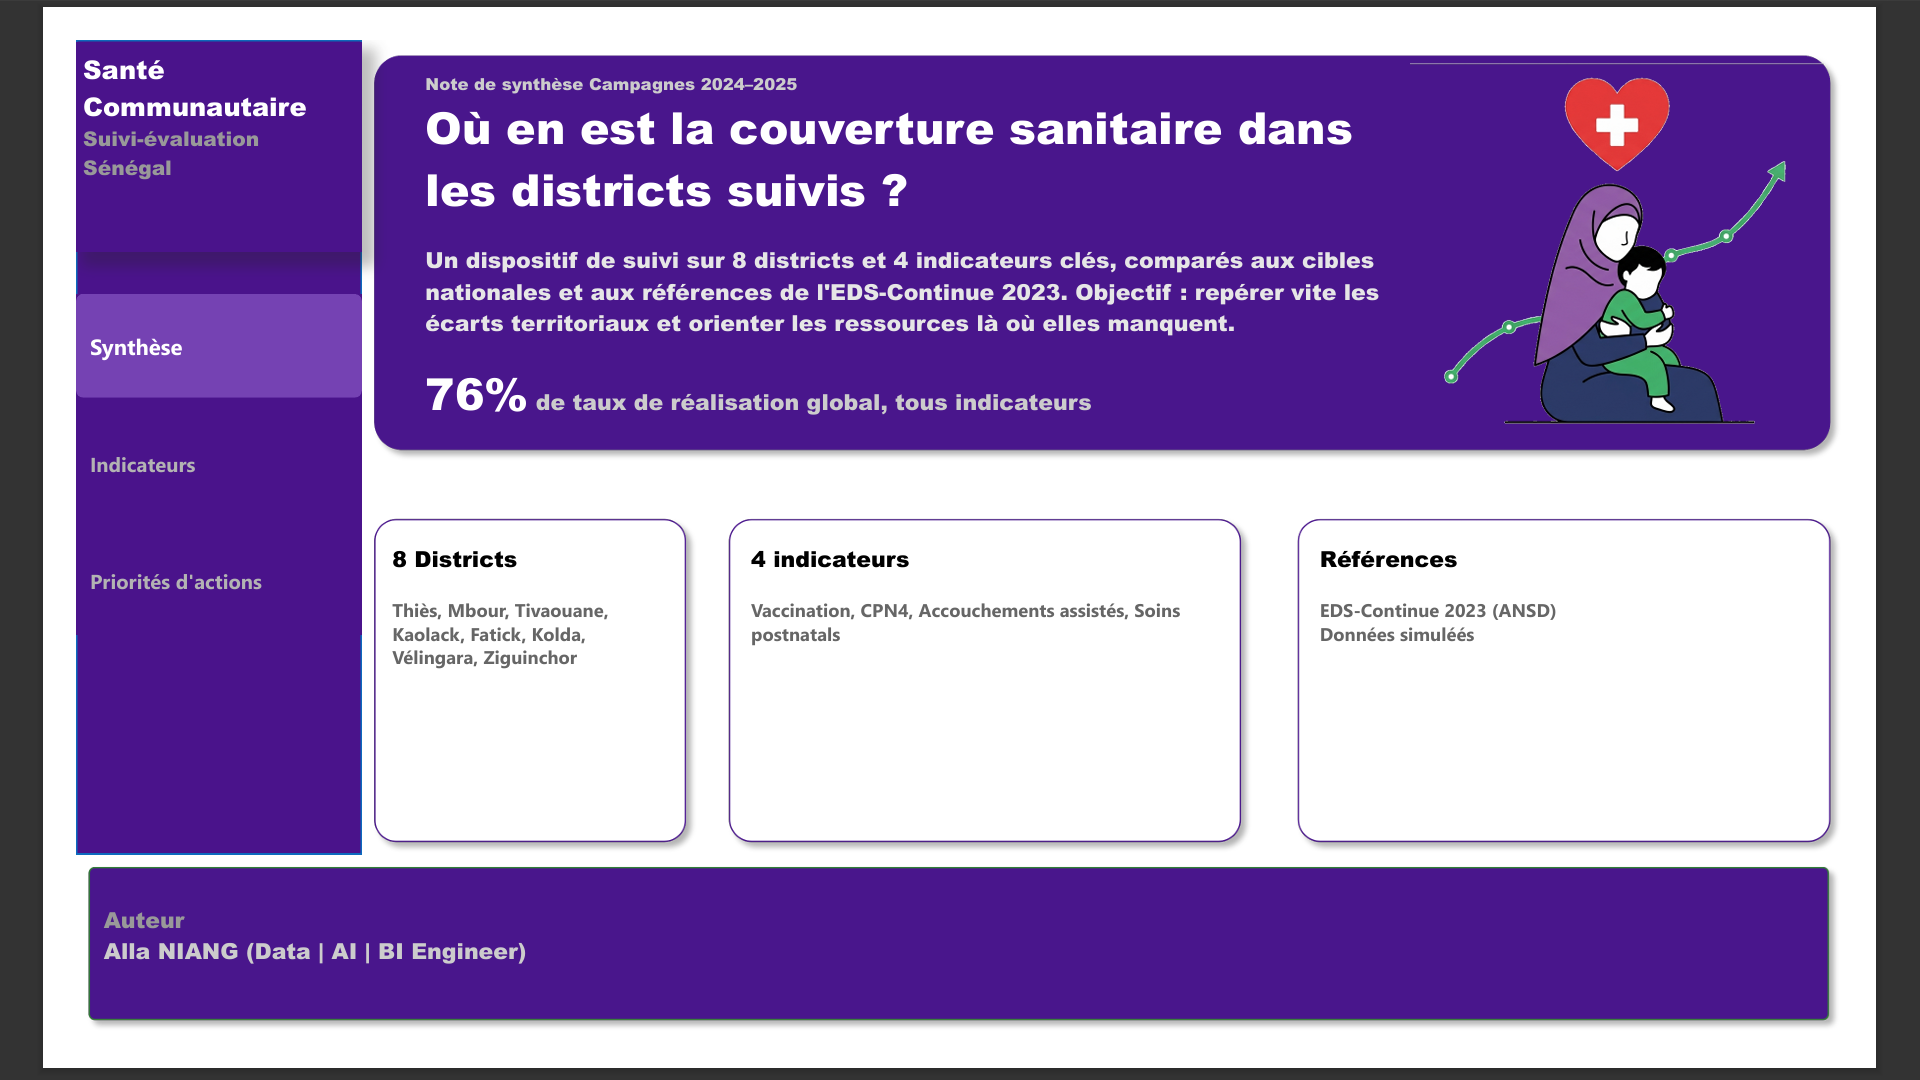

What the dashboard file says about the page in this screenshot:
{"tool":"powerbi","page":{"name":"Synthèse","canvas":[1280,720],"ordinal":0},"visuals":[{"type":"shape","box":[0,0,207.1,589.7],"z":0},{"type":"shape","title":"Adoption des pratiques résilientes","box":[207.1,1.7,1073.4,304.8],"z":1000},{"type":"shape","title":"Adoption des pratiques résilientes","box":[207.1,337.9,243.5,251.8],"z":2000},{"type":"shape","title":"Adoption des pratiques résilientes","box":[876.3,337.9,404.2,251.8],"z":3000},{"type":"shape","title":"Adoption des pratiques résilientes","box":[0,590,1279.4,129.2],"z":4000},{"type":"textbox","title":"Zone de texte (Disparités)","box":[14.9,619.5,346.2,74.5],"z":5000},{"type":"textbox","title":"Zone de texte (Disparités)","box":[223.6,359.5,212,124.2],"z":6000},{"type":"shape","title":"Adoption des pratiques résilientes","box":[463.8,337.9,389.3,251.8],"z":7000},{"type":"textbox","title":"Zone de texte (Disparités)","box":[483.7,359.5,349.5,140.8],"z":8000},{"type":"textbox","title":"Zone de texte (Disparités)","box":[896.2,359.5,384.3,124.2],"z":9000},{"type":"textbox","title":"Zone de texte (Disparités)","box":[248.5,16.6,702.3,273.3],"z":10000},{"type":"pageNavigator","box":[0,183.9,207.1,246.8],"z":11000},{"type":"image","box":[967.4,16.6,298.2,273.3],"z":12000},{"type":"textbox","box":[0,1.7,207.1,152.4],"z":13000}]}

Visuals, with their boxes in screenshot pixels (x1, y1, x2, y2), scaled from the page's 1280x720 canvas onto the 1920x1080 screenshot:
shape: <bbox>0, 0, 311, 885</bbox>
"Adoption des pratiques résilientes" shape: <bbox>311, 3, 1919, 460</bbox>
"Adoption des pratiques résilientes" shape: <bbox>311, 507, 676, 885</bbox>
"Adoption des pratiques résilientes" shape: <bbox>1314, 507, 1919, 885</bbox>
"Adoption des pratiques résilientes" shape: <bbox>0, 885, 1919, 1079</bbox>
"Zone de texte (Disparités)" textbox: <bbox>22, 929, 542, 1041</bbox>
"Zone de texte (Disparités)" textbox: <bbox>335, 539, 653, 726</bbox>
"Adoption des pratiques résilientes" shape: <bbox>696, 507, 1280, 885</bbox>
"Zone de texte (Disparités)" textbox: <bbox>726, 539, 1250, 750</bbox>
"Zone de texte (Disparités)" textbox: <bbox>1344, 539, 1919, 726</bbox>
"Zone de texte (Disparités)" textbox: <bbox>373, 25, 1426, 435</bbox>
pageNavigator: <bbox>0, 276, 311, 646</bbox>
image: <bbox>1451, 25, 1898, 435</bbox>
textbox: <bbox>0, 3, 311, 231</bbox>
